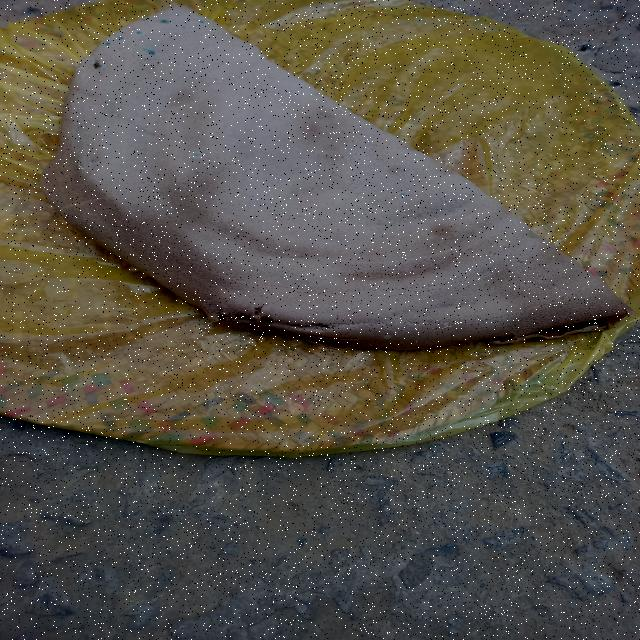injera_mold: (92, 59, 104, 68), (441, 322, 453, 330), (188, 152, 203, 158), (381, 334, 392, 340), (397, 192, 408, 198), (147, 49, 156, 56), (158, 19, 170, 24), (80, 58, 90, 63), (77, 164, 84, 170), (77, 66, 86, 70), (105, 41, 111, 47), (531, 281, 538, 286), (198, 20, 206, 24), (118, 36, 125, 40), (553, 286, 559, 290), (136, 30, 142, 34), (142, 48, 148, 51), (175, 14, 181, 17), (84, 170, 88, 174), (435, 319, 440, 322), (430, 328, 436, 330), (527, 288, 531, 291), (96, 161, 100, 164), (182, 26, 186, 29), (538, 286, 543, 288), (76, 162, 80, 164), (142, 19, 146, 21), (533, 292, 536, 294), (532, 276, 535, 278), (536, 274, 539, 276), (90, 162, 92, 164)
